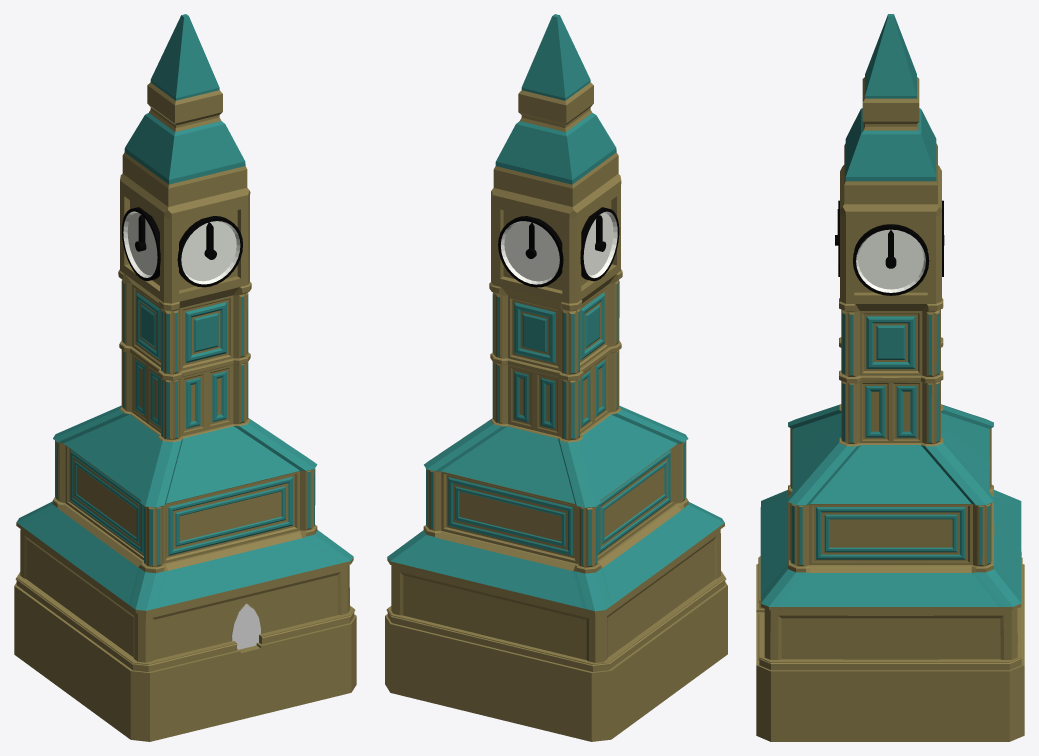
Rendered from Tower.glb.
3 views of the same model, side by side, from view 1: azimuth 30°, elevation 25°; view 2: azimuth 150°, elevation 25°; view 3: azimuth 270°, elevation 25° (orthographic). The views are drawn at different scales.
Parts seen in each view (by area): view 1: Tower, Cube.001, Clock, Cutout; view 2: Tower, Cube.001, Clock; view 3: Tower, Cube.001, Clock.
Boxes of the visible parts, x1,y1,x2,y2 form: Tower: (16,14,353,662); Cube.001: (14,572,356,741); Clock: (122,207,242,287); Cutout: (232,603,260,649); Tower: (387,14,724,662); Cube.001: (385,571,727,741); Clock: (498,207,619,287); Tower: (760,14,1021,659); Cube.001: (756,556,1024,741); Clock: (838,200,943,295).
Bounding box in the file's own units: 90.11 × 249 × 90.24.
